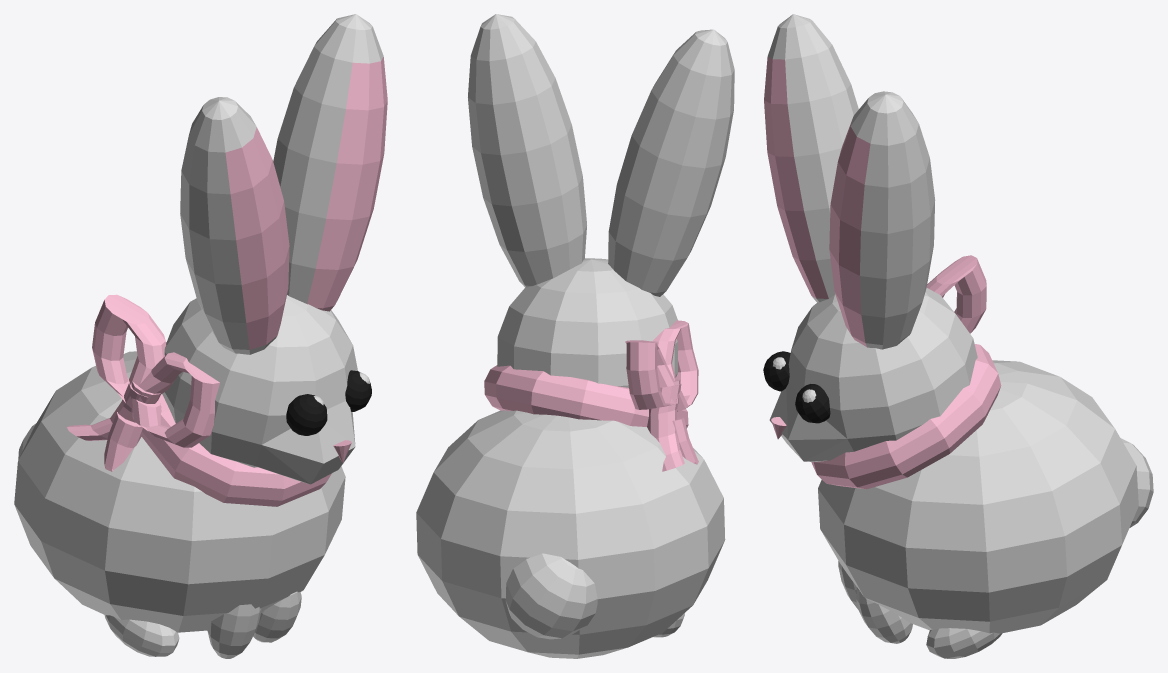
The model's file is Easter rabbit.glb.
3 views of the same model, side by side, from view 1: azimuth 30°, elevation 25°; view 2: azimuth 150°, elevation 25°; view 3: azimuth 270°, elevation 25° (orthographic). The views are drawn at different scales.
Visible parts, largest first — view 1: group1216457908, group996129649, group1886859090, group184240354, group328142572, group887470879, group1425570283, group264304367, group1469001808, group553575643, group706512643; view 2: group1216457908, group996129649, group1886859090, group184240354, group328142572, group887470879, group616163627; view 3: group1216457908, group996129649, group184240354, group1886859090, group887470879, group328142572, group1986467112, group1469001808, group616163627, group706512643, group553575643.
Boxes of the visible parts, x1,y1,x2,y2 form: group1216457908: (14,351,345,632); group996129649: (273,14,387,311); group1886859090: (180,97,289,354); group184240354: (162,295,357,484); group328142572: (66,294,219,471); group887470879: (141,342,331,506); group1425570283: (207,604,261,658); group264304367: (104,615,179,656); group1469001808: (253,591,301,642); group553575643: (286,394,327,435); group706512643: (345,370,371,411); group1216457908: (416,410,725,658); group996129649: (468,14,586,287); group1886859090: (608,29,734,296); group184240354: (497,258,677,387); group328142572: (625,320,698,471); group887470879: (484,365,688,428); group616163627: (505,553,597,639); group1216457908: (818,360,1138,633); group996129649: (829,91,935,349); group184240354: (769,288,977,461); group1886859090: (764,14,858,302); group887470879: (811,344,1001,489); group328142572: (926,255,986,333); group1986467112: (926,628,1002,658); group1469001808: (856,587,912,643); group616163627: (1120,438,1153,527); group706512643: (795,384,830,423); group553575643: (763,351,790,391).
Bounding box in the file's own units: 0.3208 × 0.633 × 0.3809.
